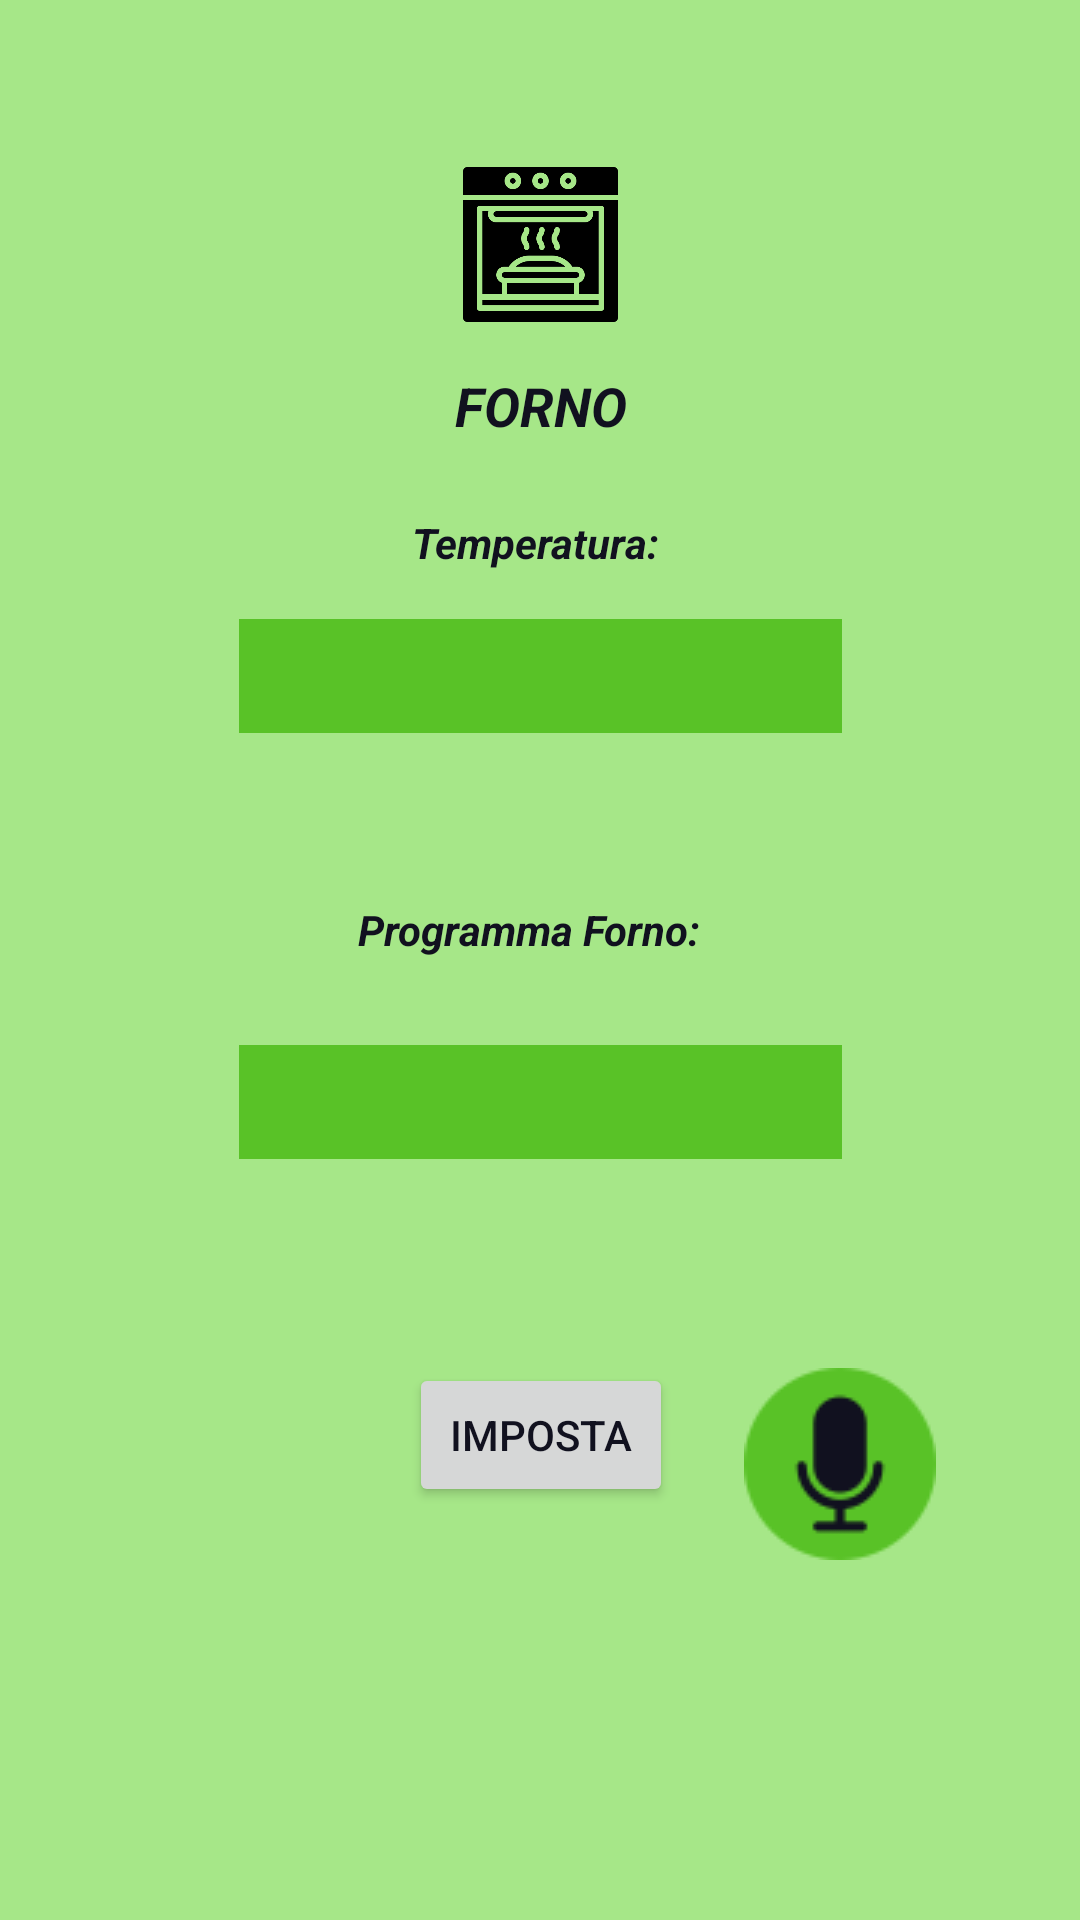

Icon click points for this 1080*1920 phone screenshot, format point (x, y):
microphone: point (840, 1464)
oven: point (540, 244)
